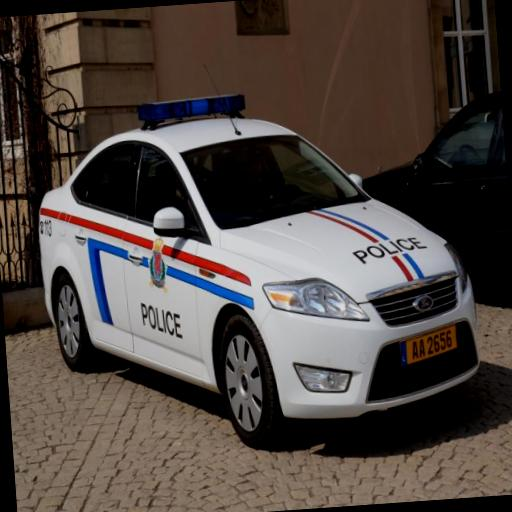Ambulance: (30, 80, 485, 454)
